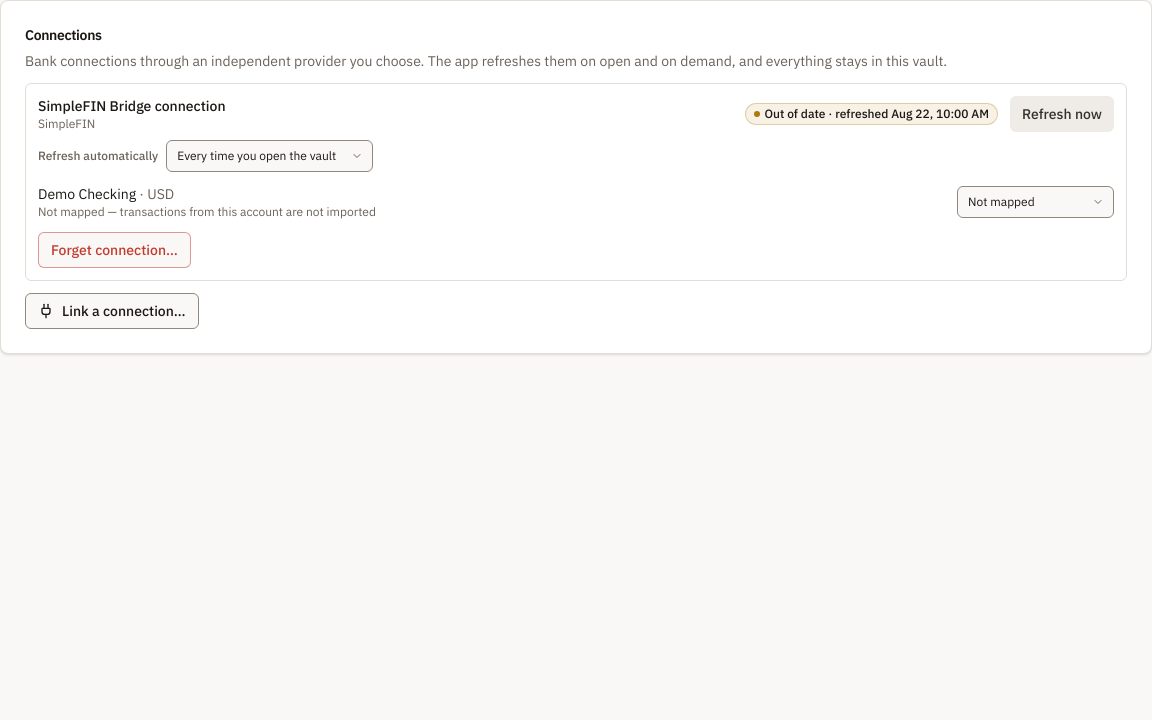
Test: ConnectionsCard › a stale dialog's create is refused by the guard and leaves no account (pxi.8)
Select "Create new account…" in the dropdown named "Account for Demo Checking" at [1036, 202], box x1=957 y1=186 x2=1114 y2=218
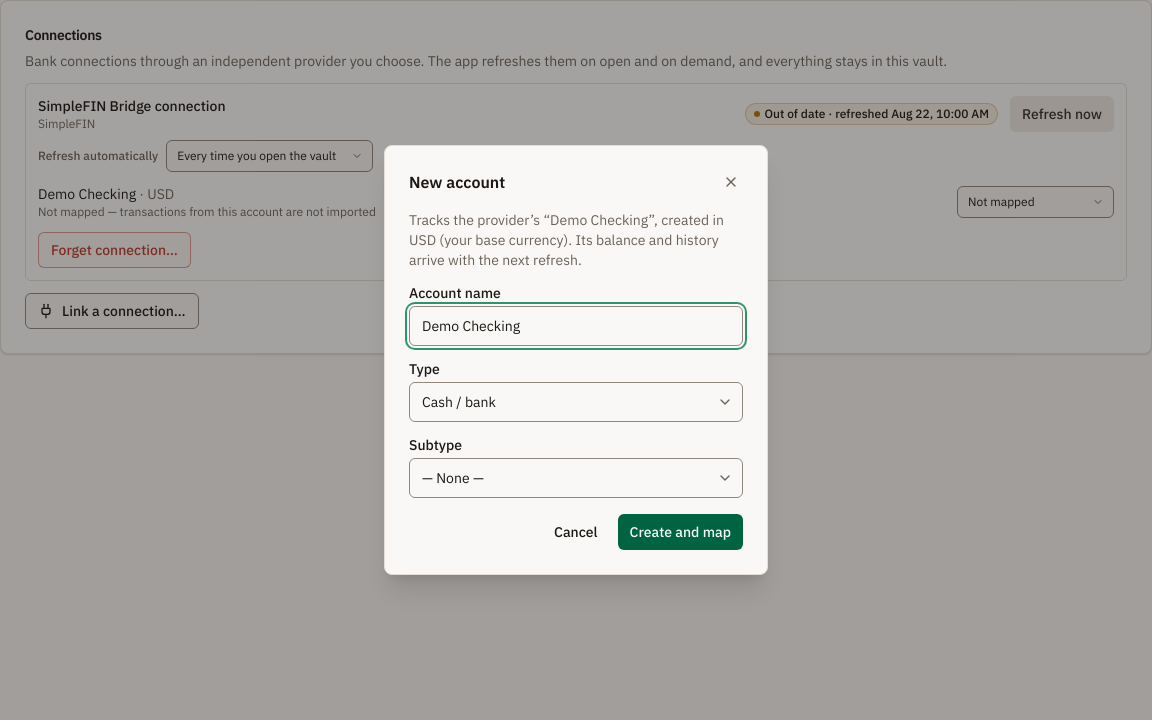
Click the button "Create and map".
click(680, 532)  # box x1=618 y1=514 x2=743 y2=550
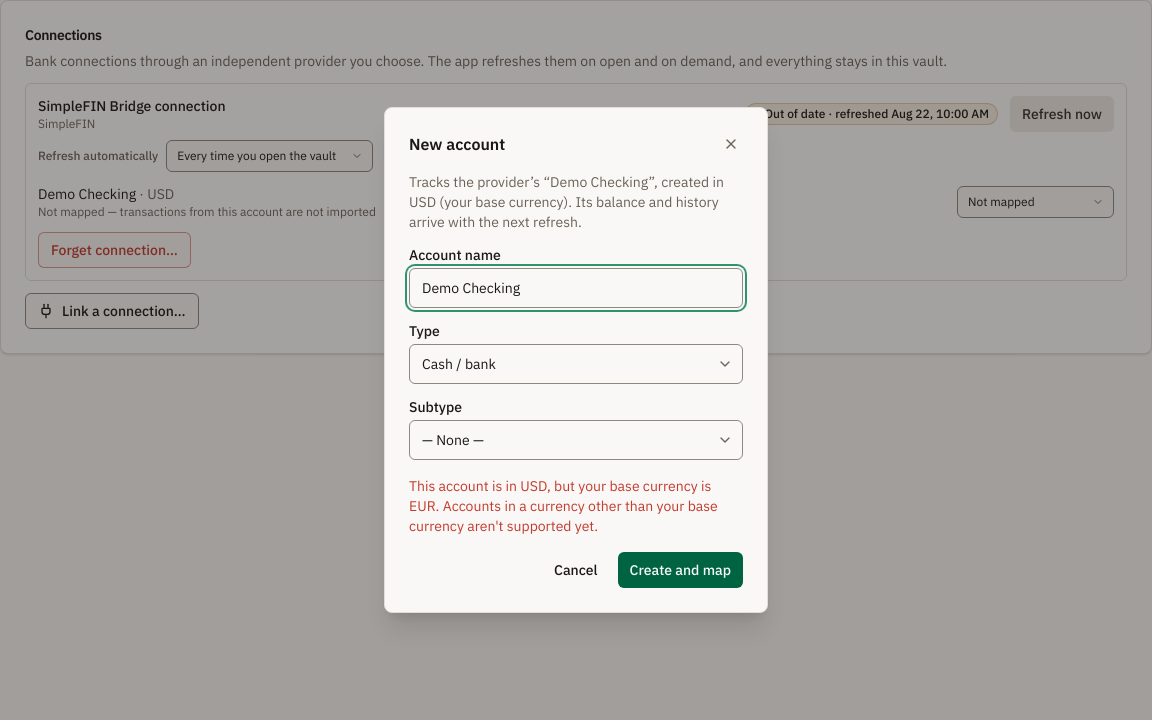
Expected: the dialog named "new account for this connection" shows "This account is in USD, but your base currency is EUR. Accounts in a currency other than your base currency aren't supported yet.", x1=409 y1=477 x2=718 y2=535
